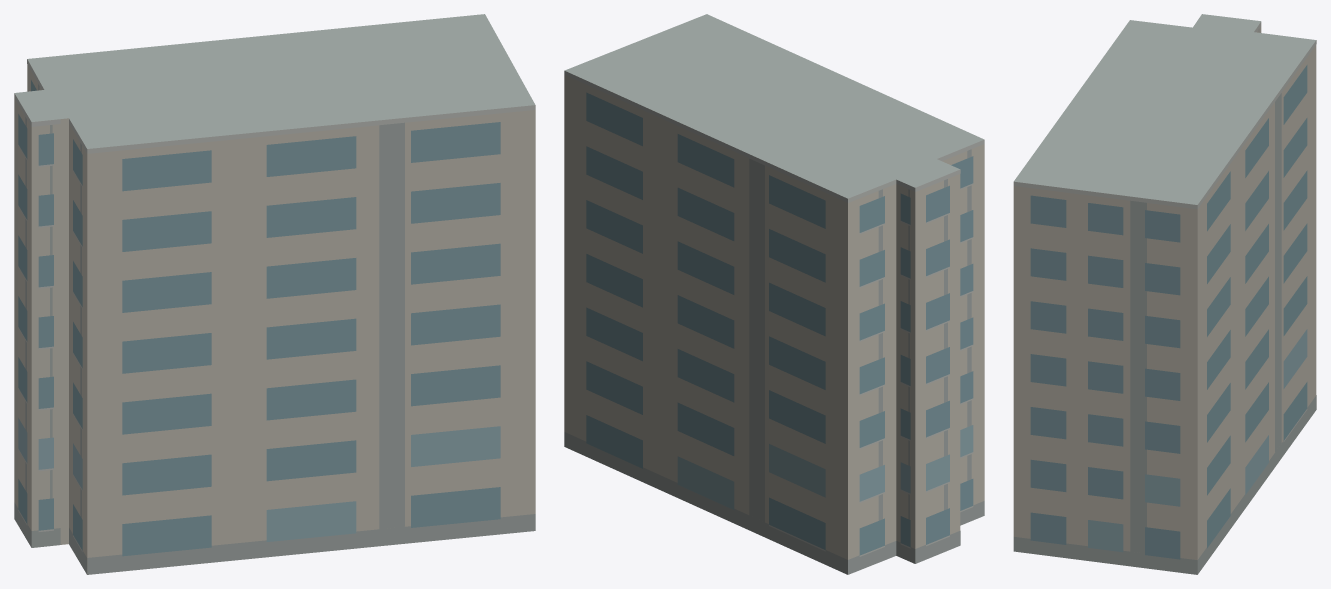
Rendered from survey-upis-32995856.glb.
3 renders of one model, left to right at view 1: azimuth 30°, elevation 25°; view 2: azimuth 150°, elevation 25°; view 3: azimuth 270°, elevation 25°, orthographic. The views are drawn at different scales.
Parts seen in each view (by area): view 1: survey-upis-32995856.tmp; view 2: survey-upis-32995856.tmp; view 3: survey-upis-32995856.tmp.
Boxes of the visible parts, box(x1,y1,x2,y2) form: survey-upis-32995856.tmp: box(14, 14, 535, 574); survey-upis-32995856.tmp: box(564, 14, 984, 574); survey-upis-32995856.tmp: box(1013, 14, 1316, 574).
Bounding box in the file's own units: 23.66 × 21.35 × 15.85.
